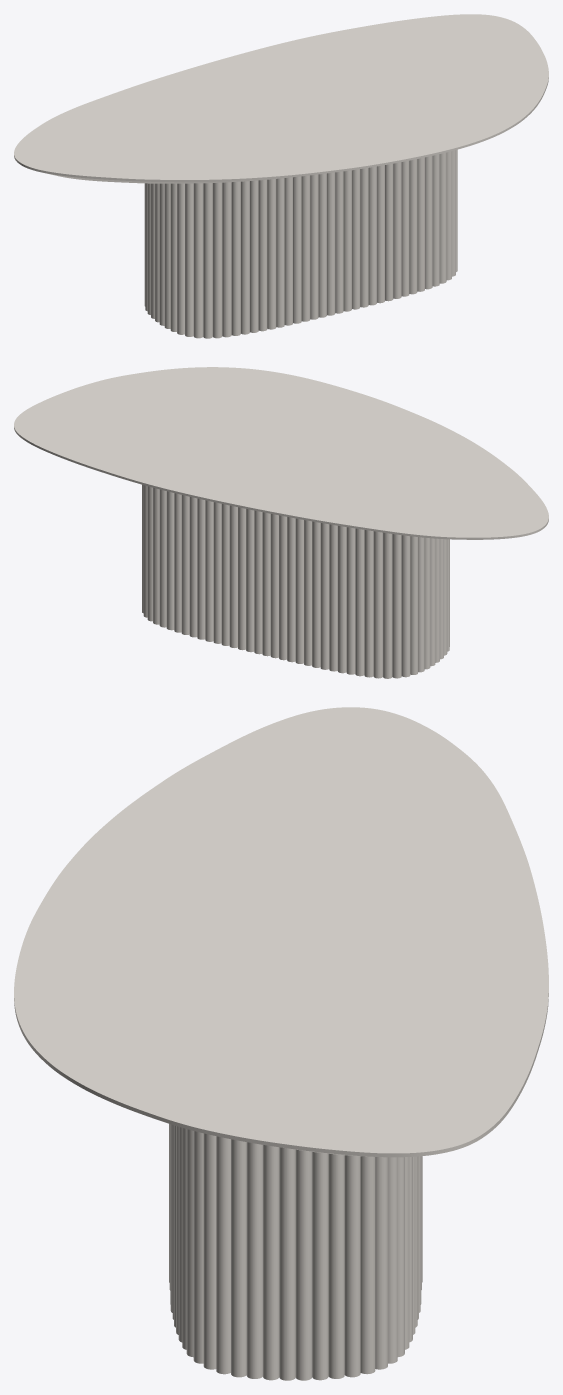
The model's file is pearlwhite_pebbletop_facet_newtable.glb.
The picture shows the model from 3 angles, top to bottom: view 1: azimuth 30°, elevation 25°; view 2: azimuth 150°, elevation 25°; view 3: azimuth 270°, elevation 25°; orthographic projection. The views are drawn at different scales.
Visible parts, largest first — view 1: facet_pebbletop, newtable; view 2: facet_pebbletop, newtable; view 3: facet_pebbletop, newtable.
Part boxes in pixels (x1,y1,x2,y2): facet_pebbletop: (14,14,548,183); newtable: (144,149,457,338); facet_pebbletop: (14,367,548,539); newtable: (142,484,449,678); facet_pebbletop: (14,707,548,1157); newtable: (169,1124,422,1380).
Size of the model in its own units: 7.5 by 2.5 by 3.8.
Materials: 2 (2 with a texture image).
